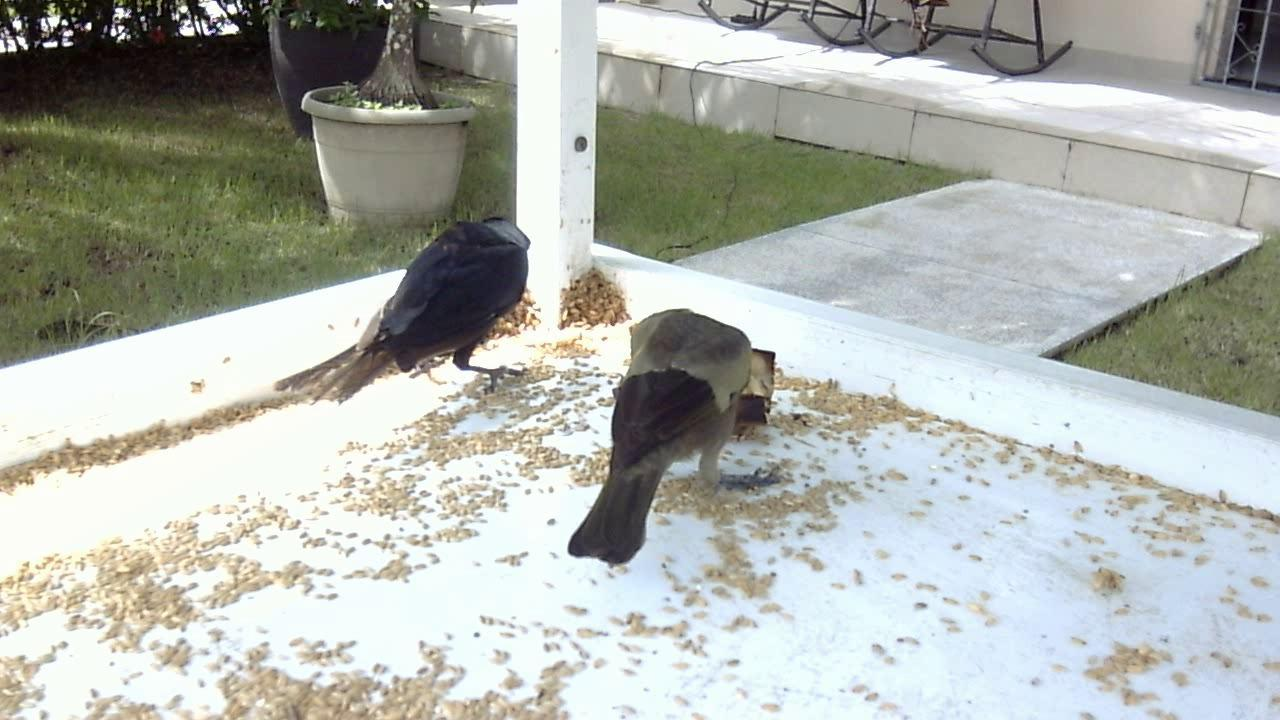chupim: (263, 204, 548, 419)
sanhaco_do_coqueiro: (564, 305, 783, 575)
